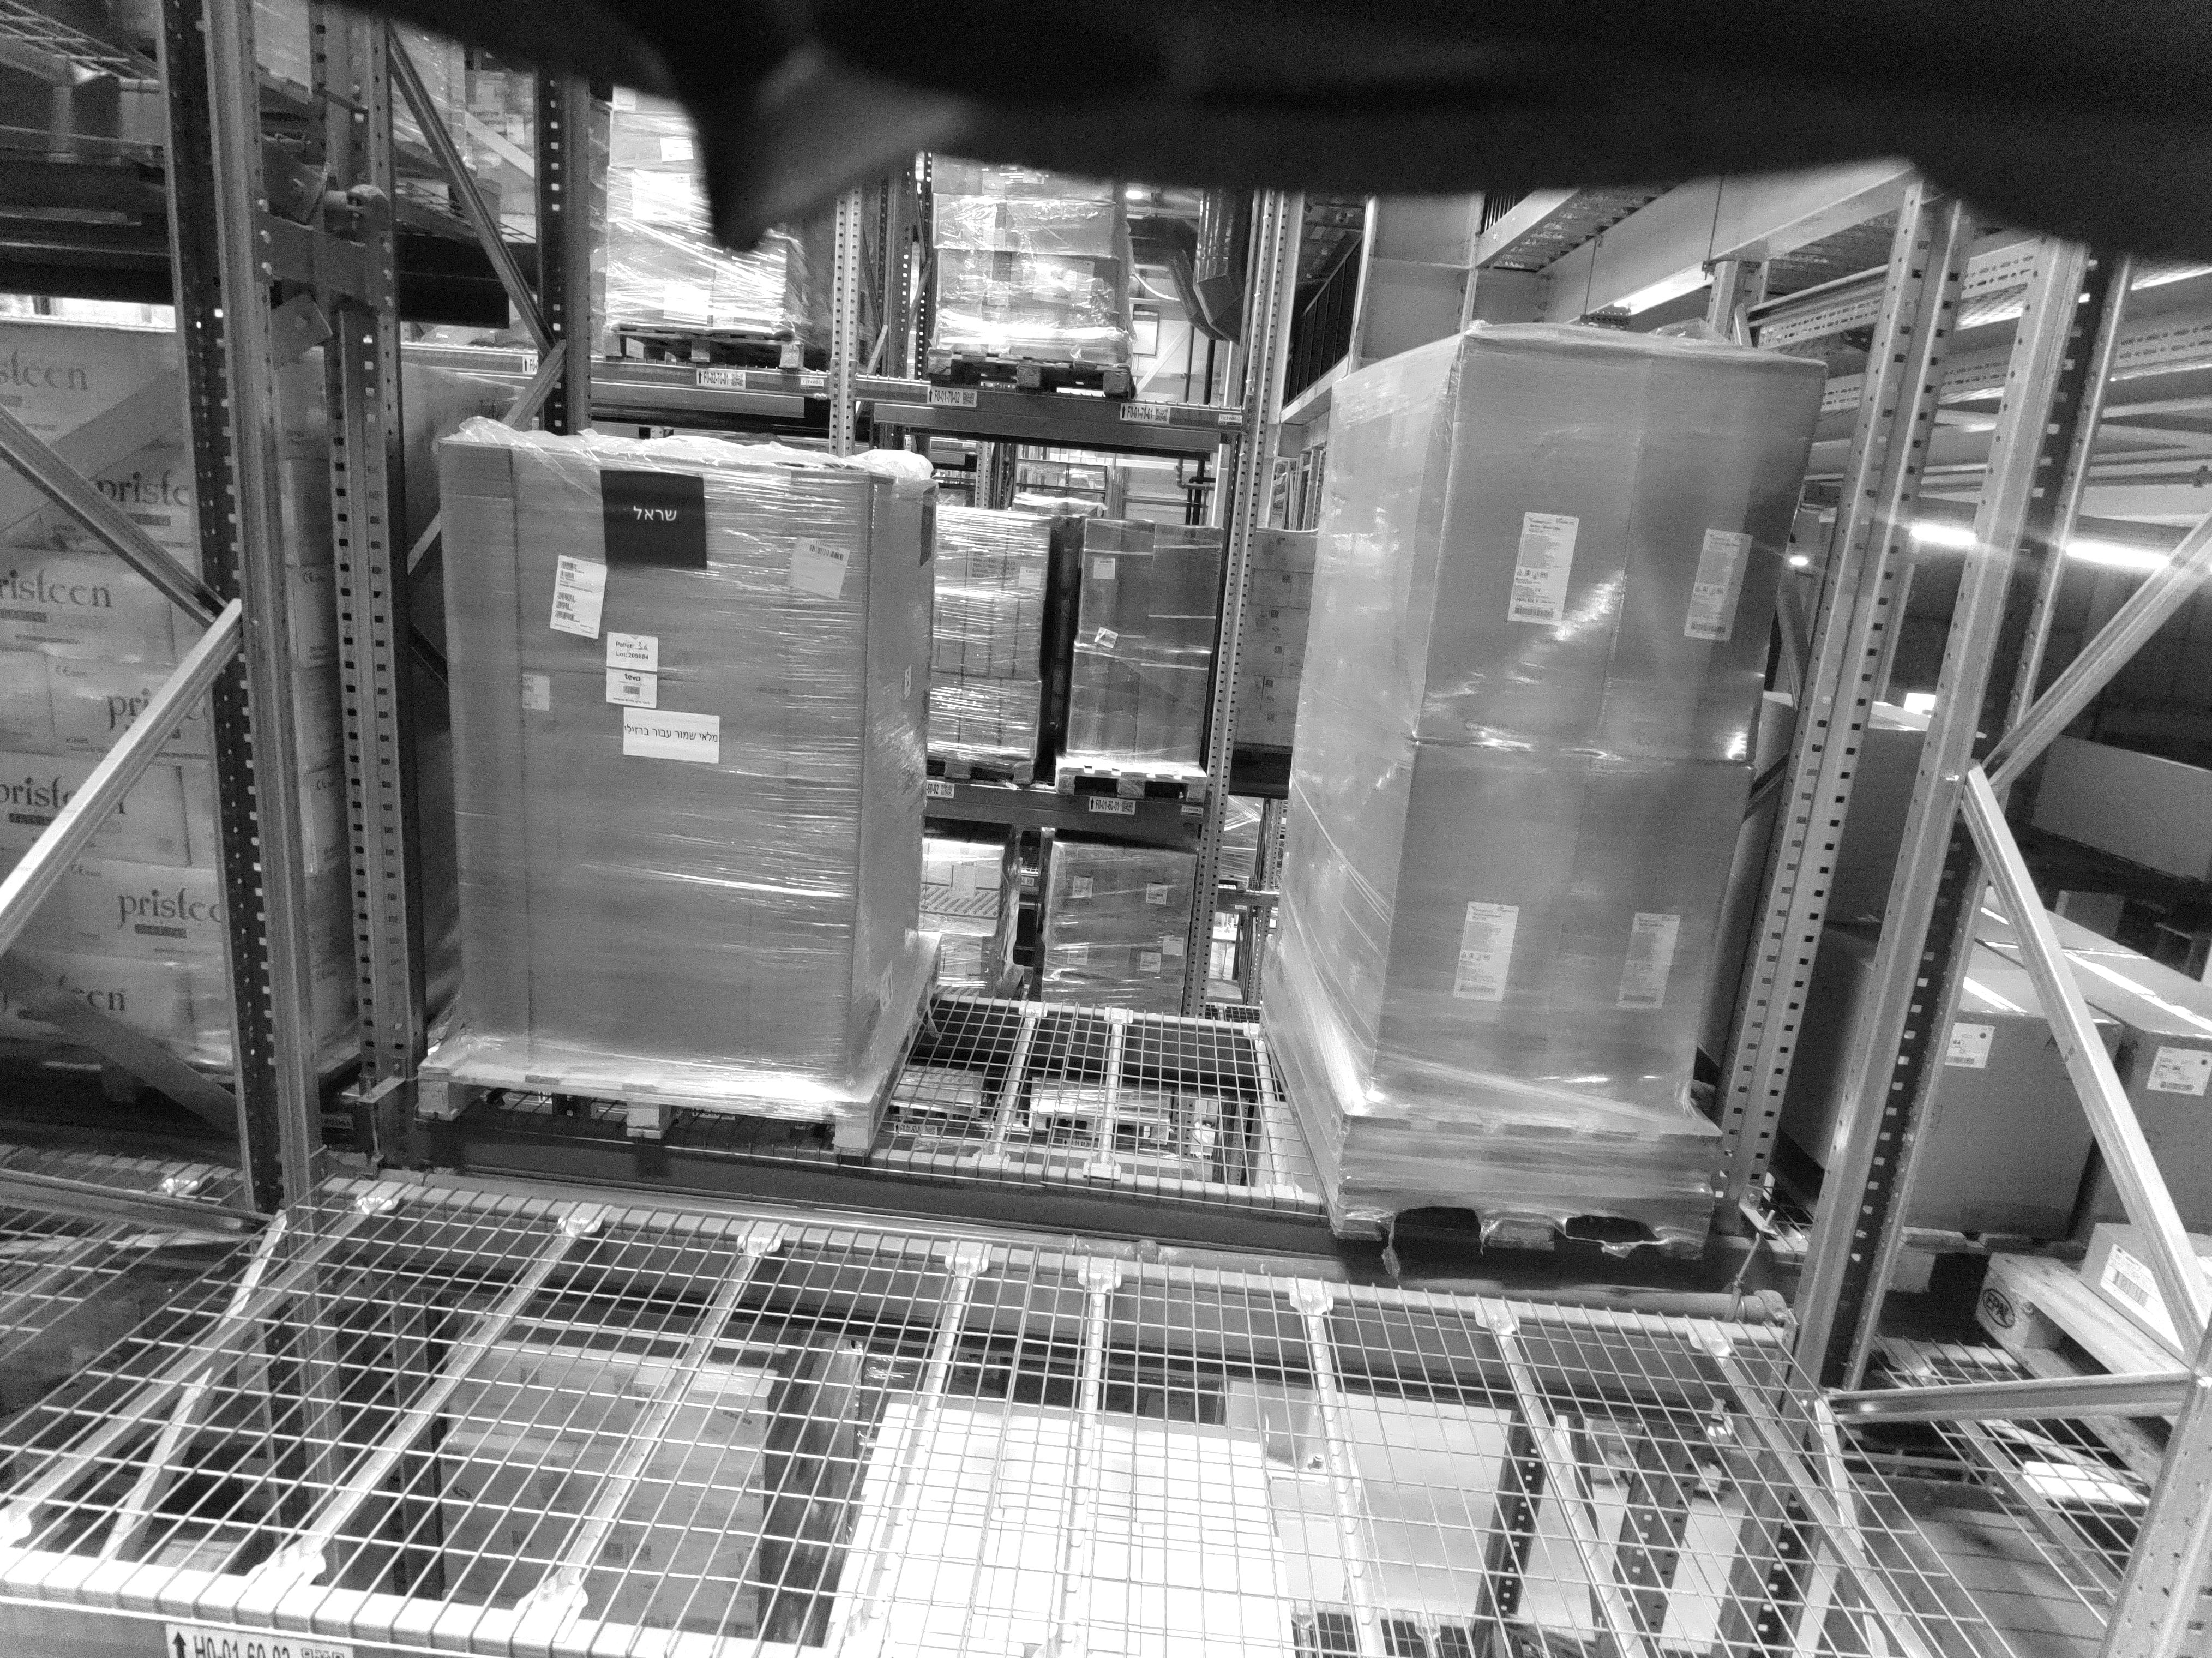empty-shelf: (344, 513, 769, 1511), (1475, 556, 1783, 1576), (990, 532, 1282, 1513)
